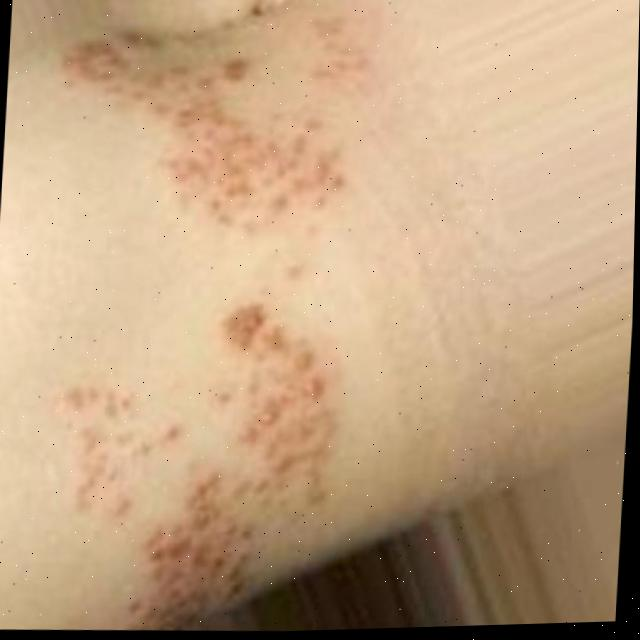Shingles: (128, 301, 347, 636), (48, 35, 355, 236), (55, 369, 186, 525)
